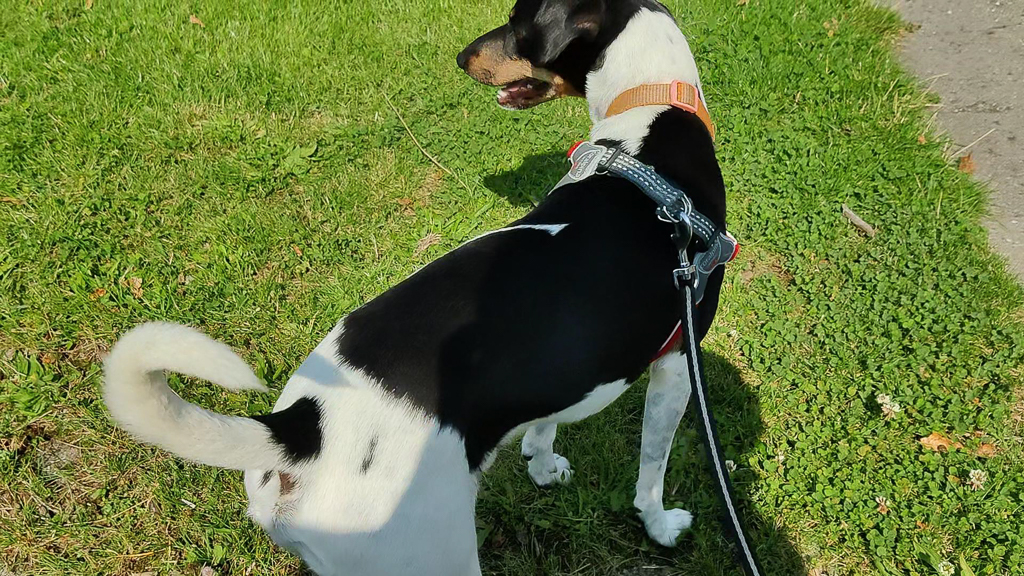Dog: (83, 0, 747, 576)
